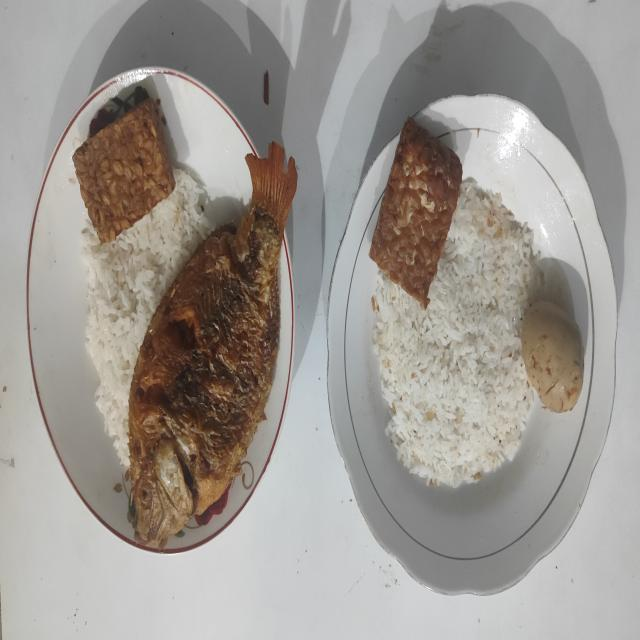ikan_mujair: (128, 142, 296, 547)
nasi_putih: (372, 180, 540, 488), (82, 170, 216, 466)
tempe_goreng: (370, 117, 462, 308), (72, 99, 176, 244)
